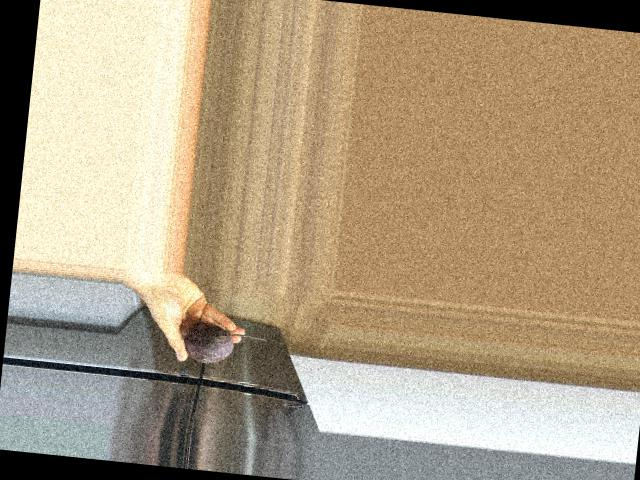beet: (183, 323, 267, 368)
